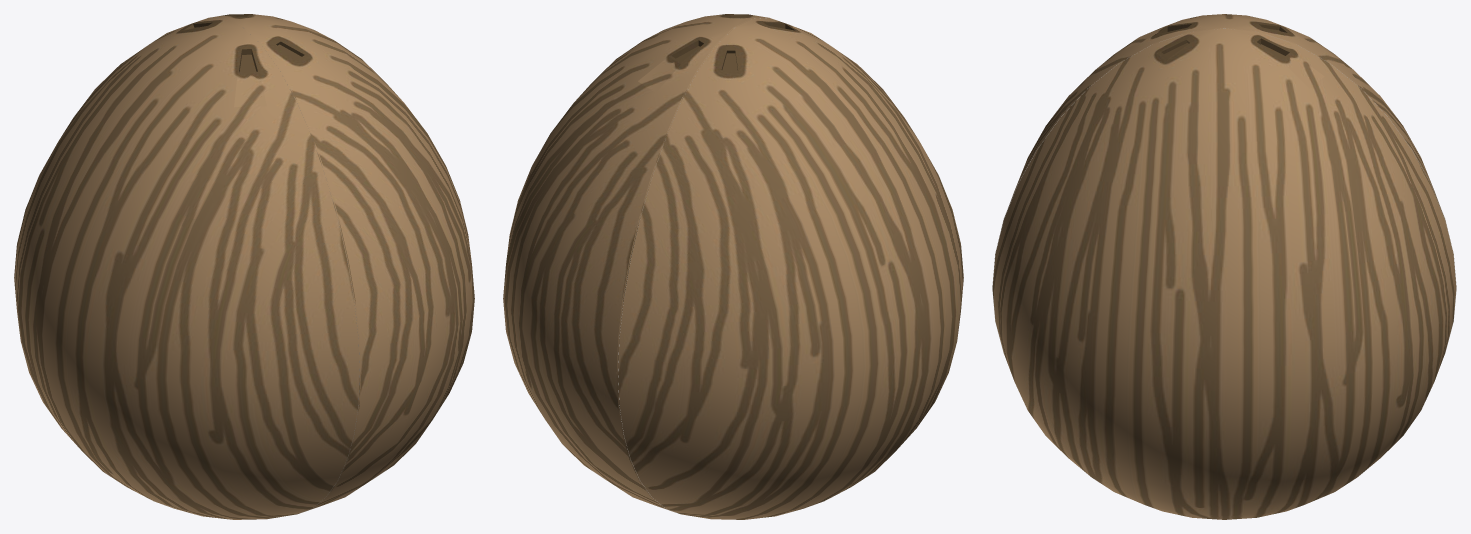
File: coco_model.obj
The picture shows the model from 3 angles, left to right: view 1: azimuth 30°, elevation 25°; view 2: azimuth 150°, elevation 25°; view 3: azimuth 270°, elevation 25°; orthographic projection.
Visible parts, largest first — view 1: pSphere3, pSphere4; view 2: pSphere3, pSphere4; view 3: pSphere4, pSphere3.
Part boxes in pixels (box(x1,y1,x2,y2)): pSphere3: box(14, 17, 361, 519); pSphere4: box(208, 14, 474, 512); pSphere3: box(616, 17, 963, 519); pSphere4: box(503, 14, 769, 512); pSphere4: box(992, 27, 1456, 519); pSphere3: box(992, 14, 1456, 353).
Bounding box in the file's own units: 20.36 × 22.83 × 20.42.
1 material, 1 textured.
